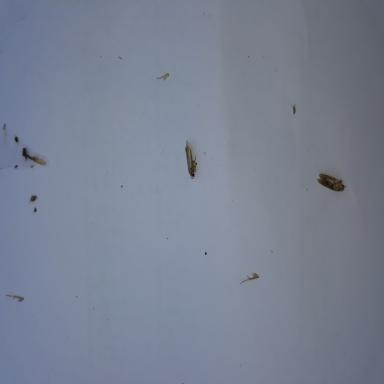pbw: (182, 137, 200, 181), (316, 171, 348, 195)
